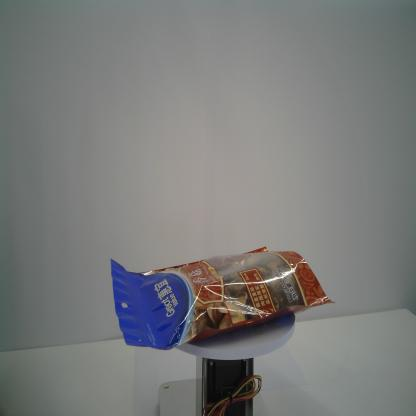Dried Food: (109, 246, 337, 351)
